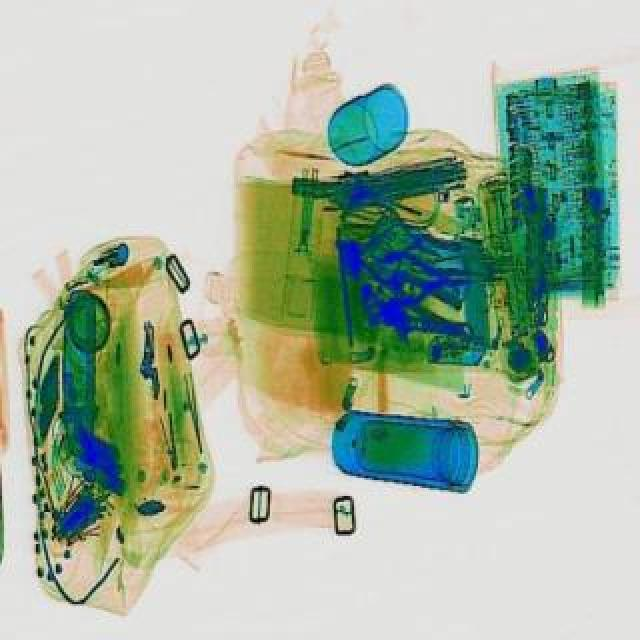scissors: (380, 308, 480, 352)
wrench: (386, 260, 482, 312)
